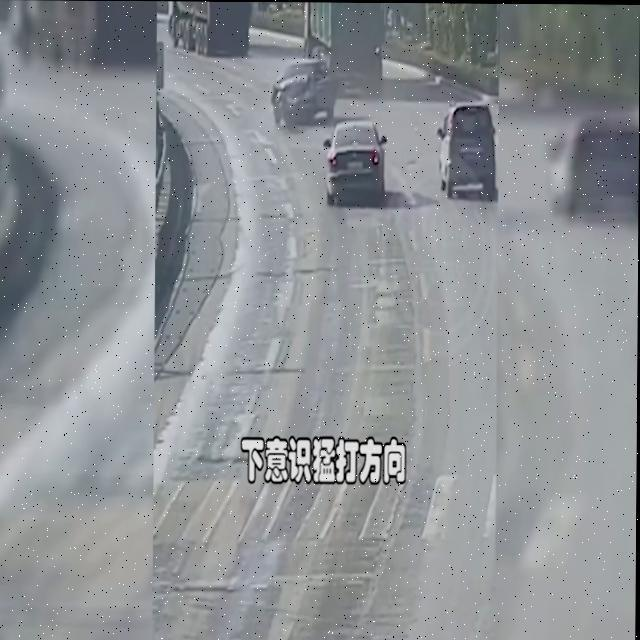multiple_accident: (263, 3, 394, 129)
normal: (317, 93, 509, 213)
